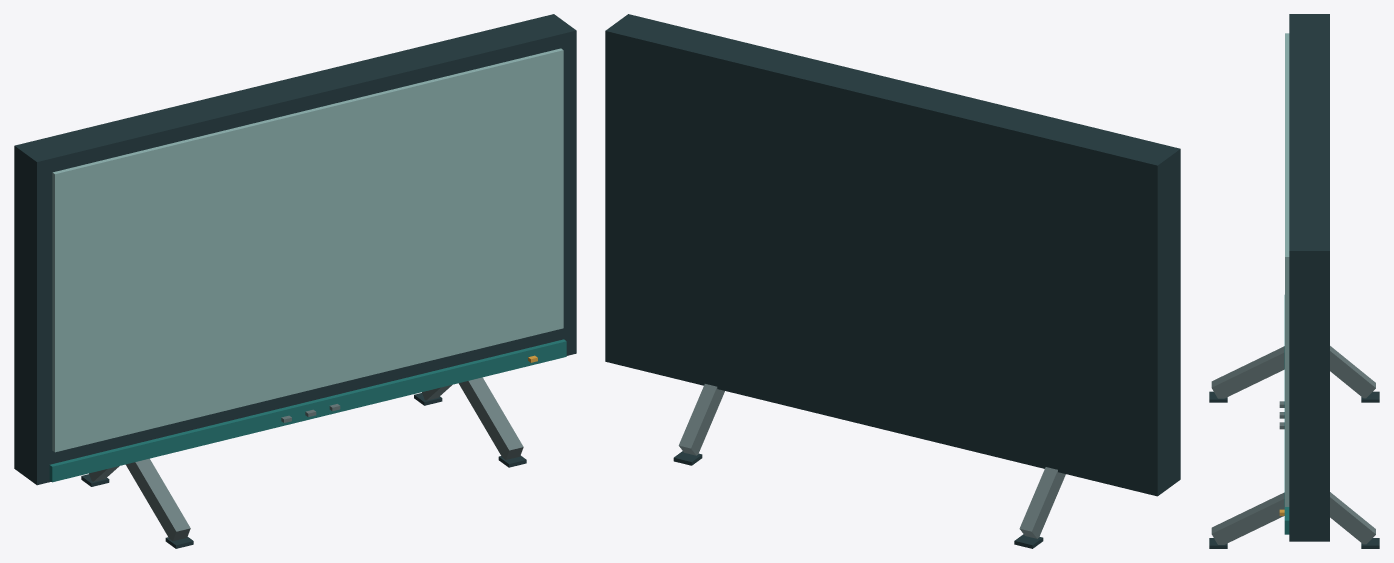
File: flat-panel-television-near.glb
3 renders of one model, left to right at view 1: azimuth 30°, elevation 25°; view 2: azimuth 150°, elevation 25°; view 3: azimuth 270°, elevation 25°, orthographic. The views are drawn at different scales.
Parts seen in each view (by area): view 1: flat-panel-television; view 2: flat-panel-television; view 3: flat-panel-television.
Part boxes in pixels (x1,y1,x2,y2): flat-panel-television: (14, 14, 576, 548); flat-panel-television: (605, 14, 1180, 548); flat-panel-television: (1209, 14, 1379, 548).
Bounding box in the file's own units: 0.94 × 0.628 × 0.286.
